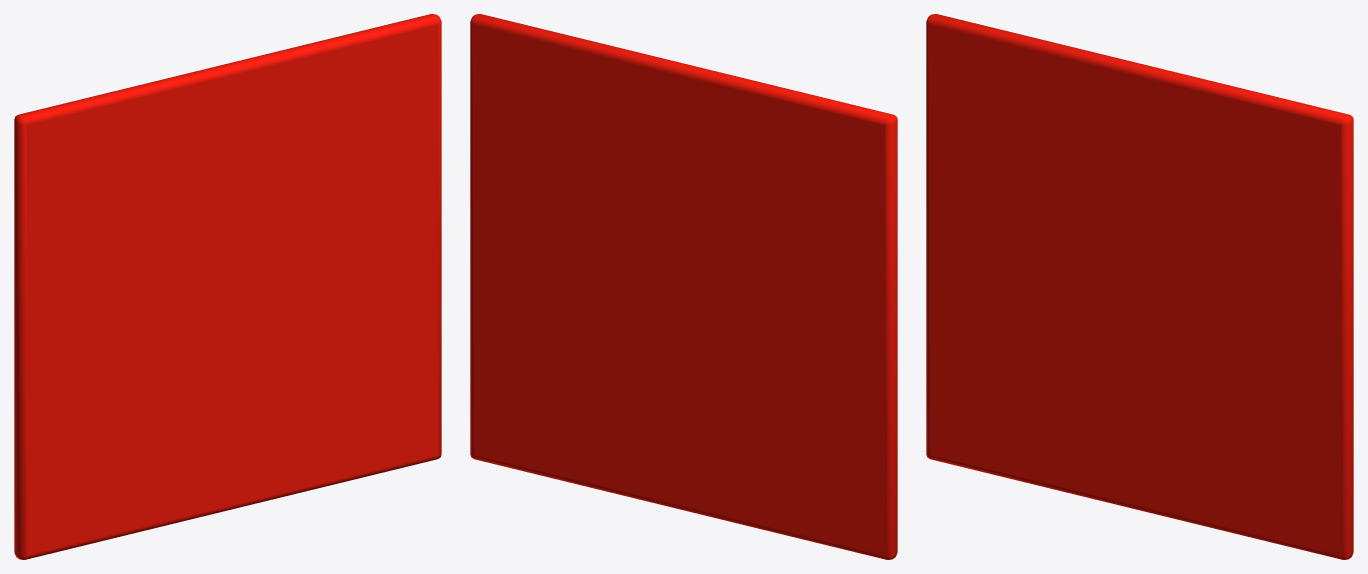
File: leave.fbx
3 views of the same model, side by side, from view 1: azimuth 30°, elevation 25°; view 2: azimuth 150°, elevation 25°; view 3: azimuth 330°, elevation 25° (orthographic).
Visible parts, largest first — view 1: Cube; view 2: Cube; view 3: Cube.
Part boxes in pixels (x1,y1,x2,y2): Cube: [14, 14, 441, 559]; Cube: [470, 14, 897, 559]; Cube: [926, 14, 1353, 559].
Bounding box in the file's own units: 27.8 × 27.8 × 1.01.
